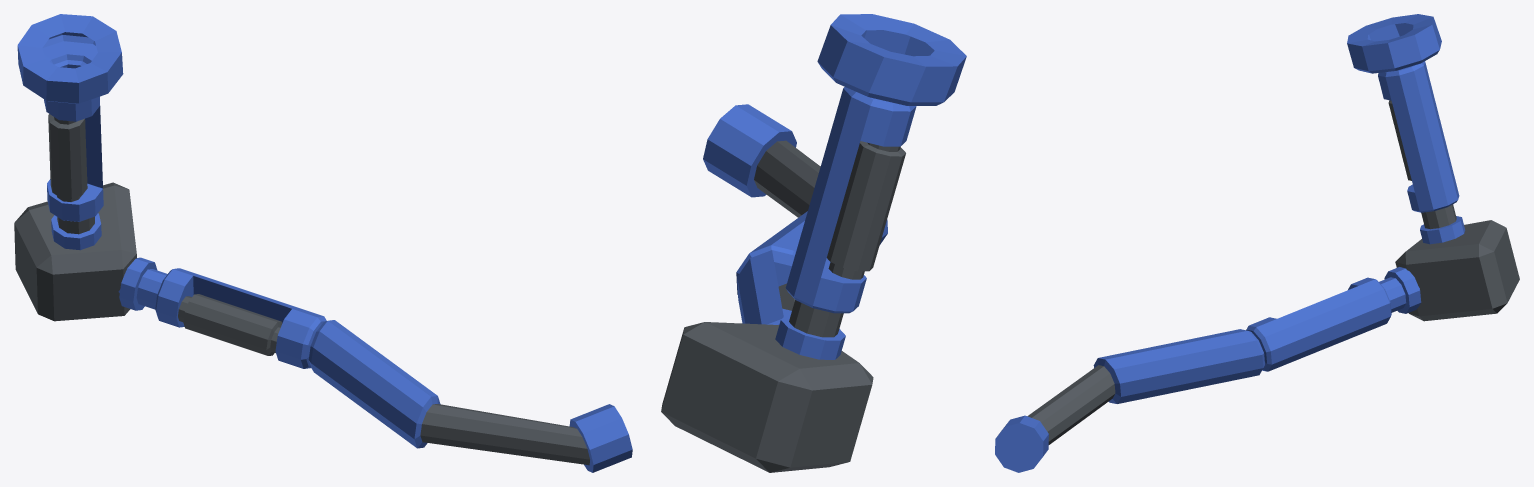
File: Fighter_03_Pipes_06_Blue.fbx
3 views of the same model, side by side, from view 1: azimuth 30°, elevation 25°; view 2: azimuth 150°, elevation 25°; view 3: azimuth 270°, elevation 25° (orthographic). The views are drawn at different scales.
Parts seen in each view (by area): view 1: Fighter_03_Pipes_06_Blue; view 2: Fighter_03_Pipes_06_Blue; view 3: Fighter_03_Pipes_06_Blue.
Part boxes in pixels (<box>): Fighter_03_Pipes_06_Blue: <box>14,14,632,472</box>; Fighter_03_Pipes_06_Blue: <box>661,14,966,472</box>; Fighter_03_Pipes_06_Blue: <box>995,14,1519,472</box>.
Bounding box in the file's own units: 155 × 135 × 205.
1 material, 1 textured.
